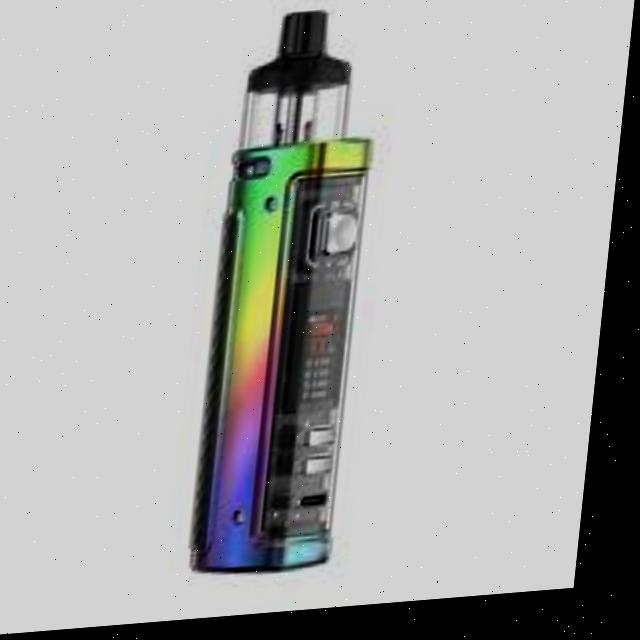vape: (197, 13, 387, 582)
